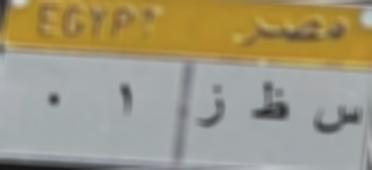0: (25, 83, 78, 116)
1: (108, 74, 152, 126)
Thaa: (245, 77, 292, 132)
seen: (308, 99, 366, 138)
zay: (194, 83, 228, 138)
